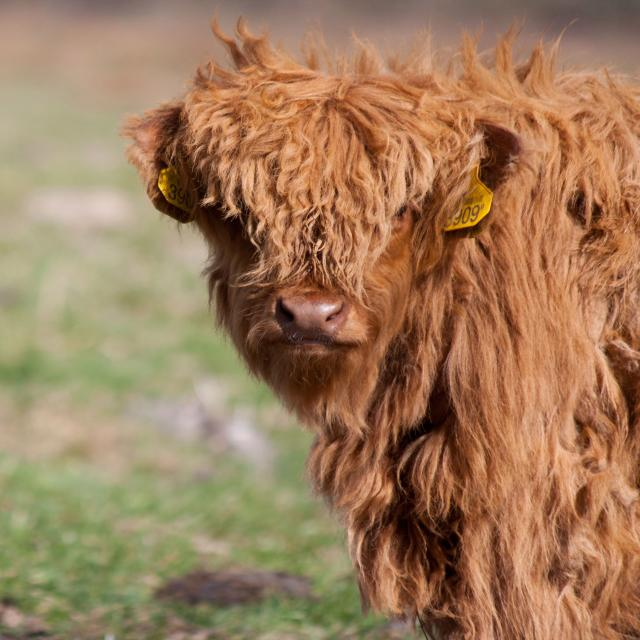cow: (123, 24, 639, 640)
